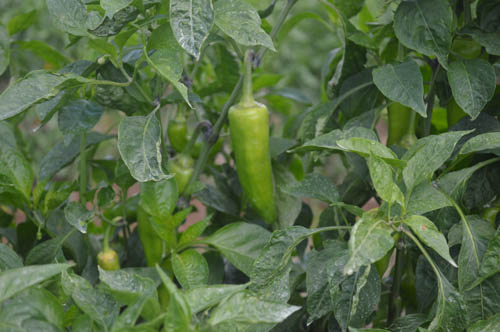ChiliPepper: (230, 103, 280, 220), (381, 82, 416, 149)
